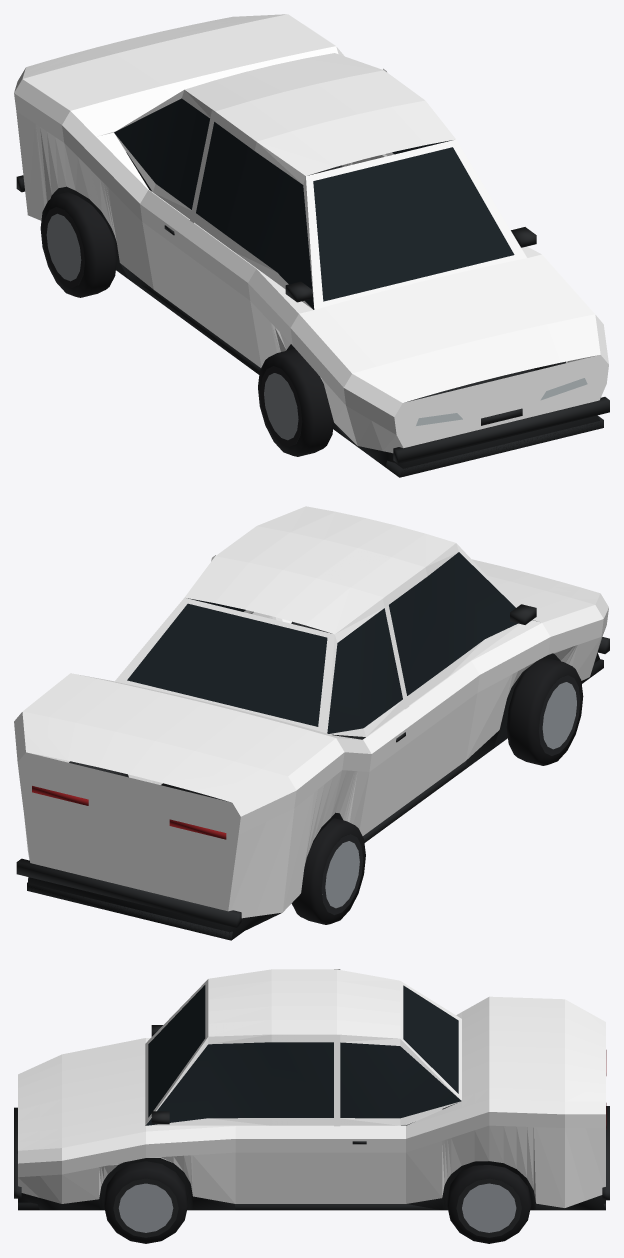
Rendered from ottavo_cobre.glb.
The picture shows the model from 3 angles, top to bottom: view 1: azimuth 30°, elevation 25°; view 2: azimuth 150°, elevation 25°; view 3: azimuth 270°, elevation 25°; orthographic projection. The views are drawn at different scales.
Parts seen in each view (by area): view 1: Body_Paint, Body_Details, Mount_RearLeft_Wheel_Details, Mount_FrontLeft_Wheel_Details; view 2: Body_Paint, Body_Details, Mount_FrontLeft_Wheel_Details, Mount_RearLeft_Wheel_Details; view 3: Body_Paint, Body_Details, Mount_FrontRight_Wheel_Details, Mount_RearRight_Wheel_Details.
Boxes of the visible parts, <box> form: Body_Paint: <box>14,14,608,453</box>; Body_Details: <box>16,98,609,477</box>; Mount_RearLeft_Wheel_Details: <box>40,192,116,297</box>; Mount_FrontLeft_Wheel_Details: <box>258,349,333,456</box>; Body_Paint: <box>14,506,608,918</box>; Body_Details: <box>16,552,609,940</box>; Mount_FrontLeft_Wheel_Details: <box>506,658,583,765</box>; Mount_RearLeft_Wheel_Details: <box>291,818,365,924</box>; Body_Paint: <box>18,969,605,1207</box>; Body_Details: <box>14,985,609,1210</box>; Mount_FrontRight_Wheel_Details: <box>104,1161,187,1243</box>; Mount_RearRight_Wheel_Details: <box>447,1165,531,1243</box>.
Size of the model in its own units: 1.84 by 1.52 by 4.26.
2 materials, 1 textured.
